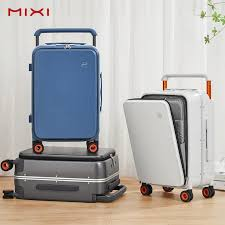suitcase: (121, 71, 216, 203), (25, 25, 106, 156), (1, 146, 127, 205)
